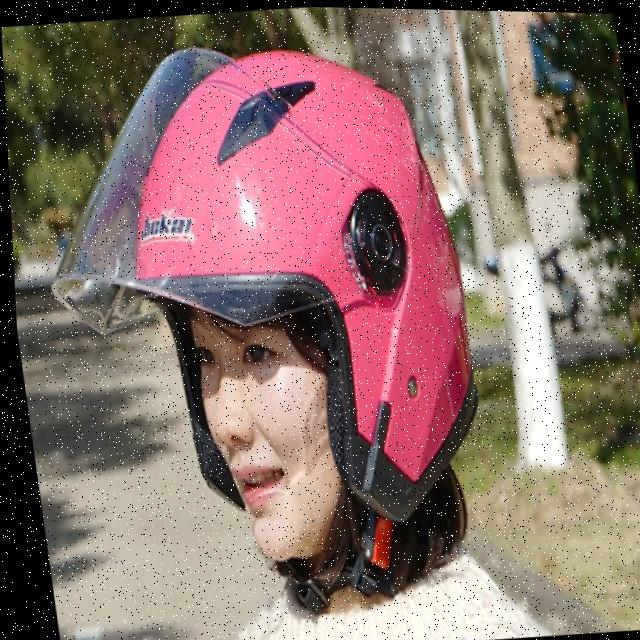helmet: (8, 6, 510, 640)
